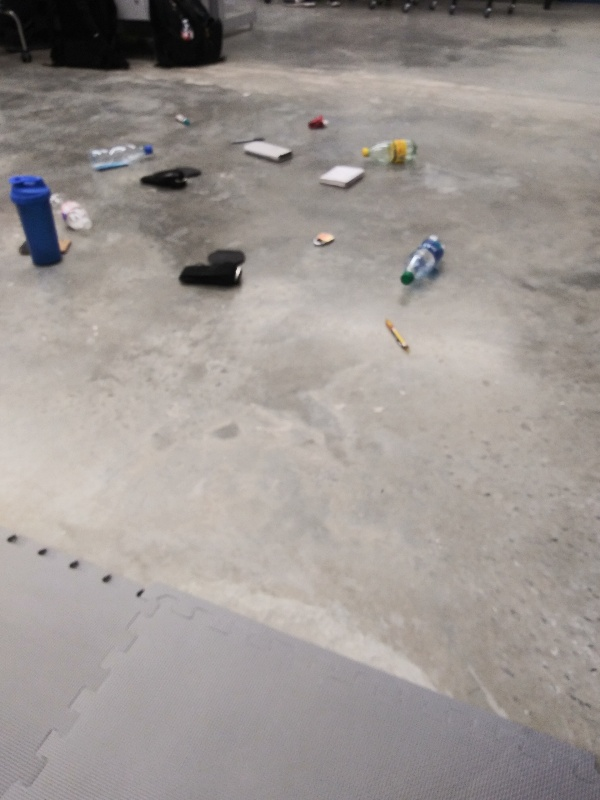bottle: (398, 230, 447, 291), (84, 139, 157, 173), (51, 190, 98, 235), (359, 137, 422, 167)
